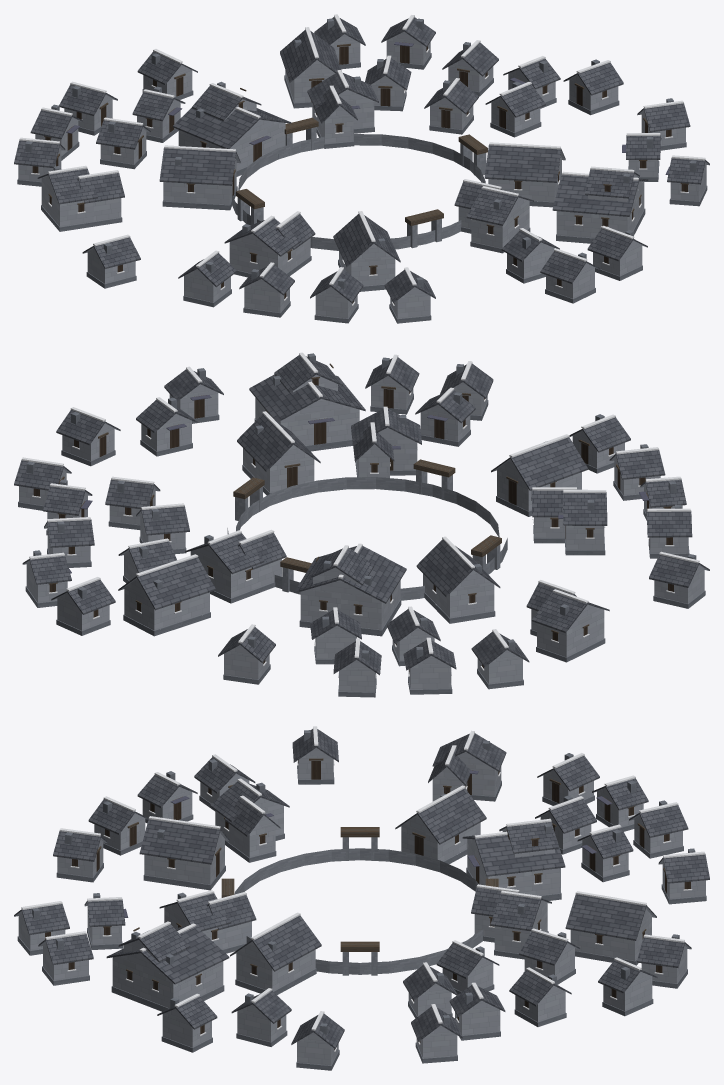
File: sandy_ring_city_lod0.glb
3 views of the same model, one above another, from view 1: azimuth 30°, elevation 25°; view 2: azimuth 150°, elevation 25°; view 3: azimuth 270°, elevation 25° (orthographic). The views are drawn at different scales.
Visible parts, largest first — view 1: ae_snow_neighbourhood_stone_lod0; view 2: ae_snow_neighbourhood_stone_lod0; view 3: ae_snow_neighbourhood_stone_lod0.
Boxes of the visible parts, <box> form: ae_snow_neighbourhood_stone_lod0: <box>14,14,709,323</box>; ae_snow_neighbourhood_stone_lod0: <box>14,352,709,697</box>; ae_snow_neighbourhood_stone_lod0: <box>14,726,709,1070</box>.
Size of the model in its own units: 1.89 by 0.1882 by 1.82.
1 material, 1 textured.
